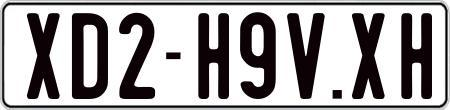2: (119, 12, 159, 102)
9: (240, 9, 282, 97)
D: (71, 10, 111, 96)
H: (400, 12, 431, 100), (198, 13, 229, 99)
V: (287, 10, 326, 96)
X: (349, 12, 384, 99), (26, 11, 59, 101)
